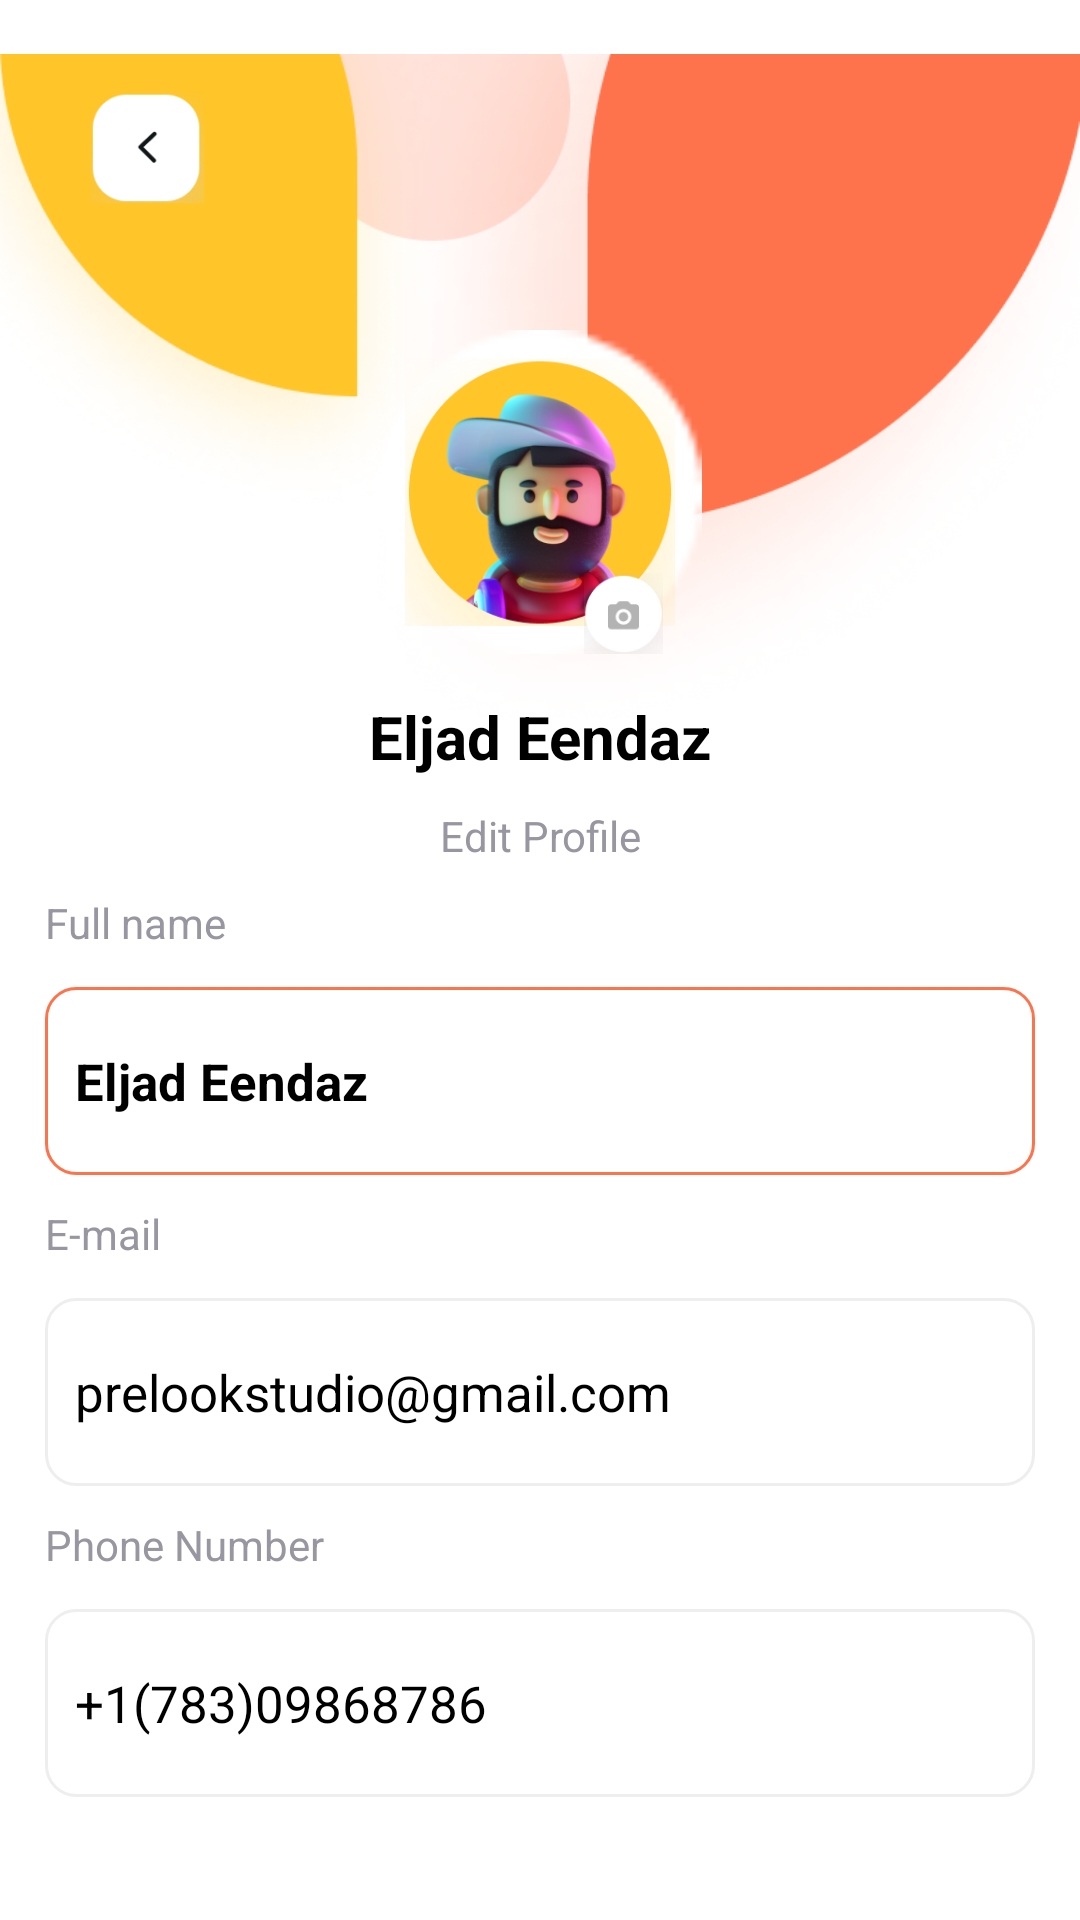

Icons on this 1080w x 1920h Android screen, each with the point to tap as point (x, y):
ava: point (540, 494)
back: point (148, 148)
